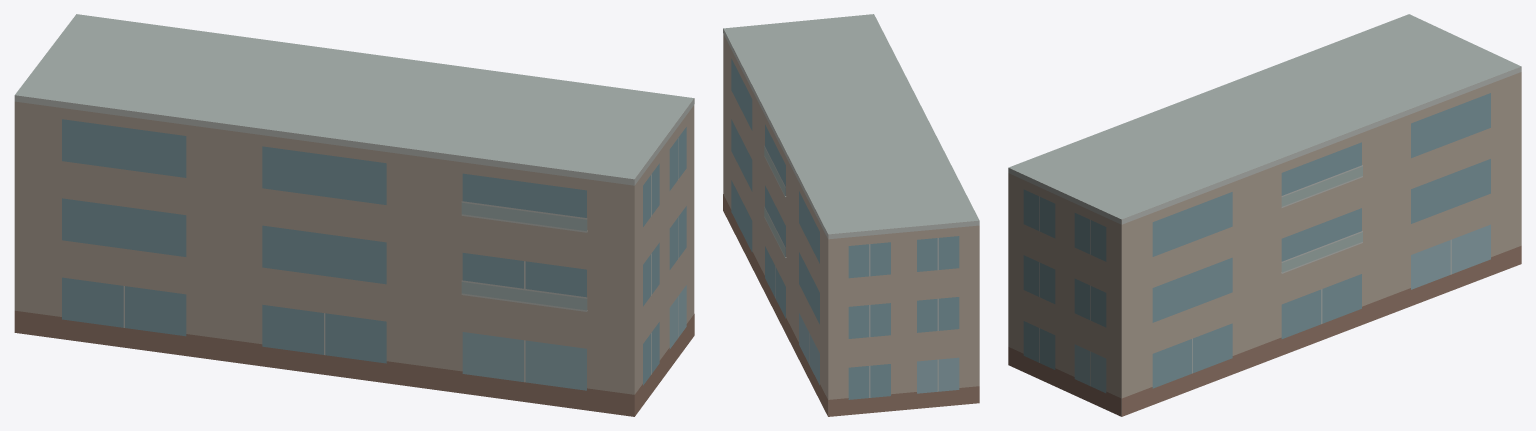
File: survey-upis-32722010.glb
3 views of the same model, side by side, from view 1: azimuth 30°, elevation 25°; view 2: azimuth 150°, elevation 25°; view 3: azimuth 270°, elevation 25° (orthographic). The views are drawn at different scales.
Visible parts, largest first — view 1: survey-upis-32722010.tmp; view 2: survey-upis-32722010.tmp; view 3: survey-upis-32722010.tmp.
Boxes of the visible parts, bbox=[...] form: survey-upis-32722010.tmp: bbox=[14, 14, 694, 416]; survey-upis-32722010.tmp: bbox=[723, 14, 979, 416]; survey-upis-32722010.tmp: bbox=[1008, 14, 1521, 416].
Bounding box in the file's own units: 20.44 × 9.15 × 21.58.
